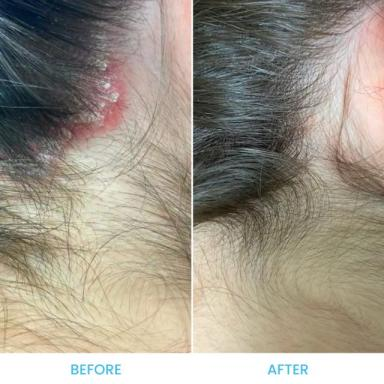Psoriasis: (1, 17, 125, 180)
